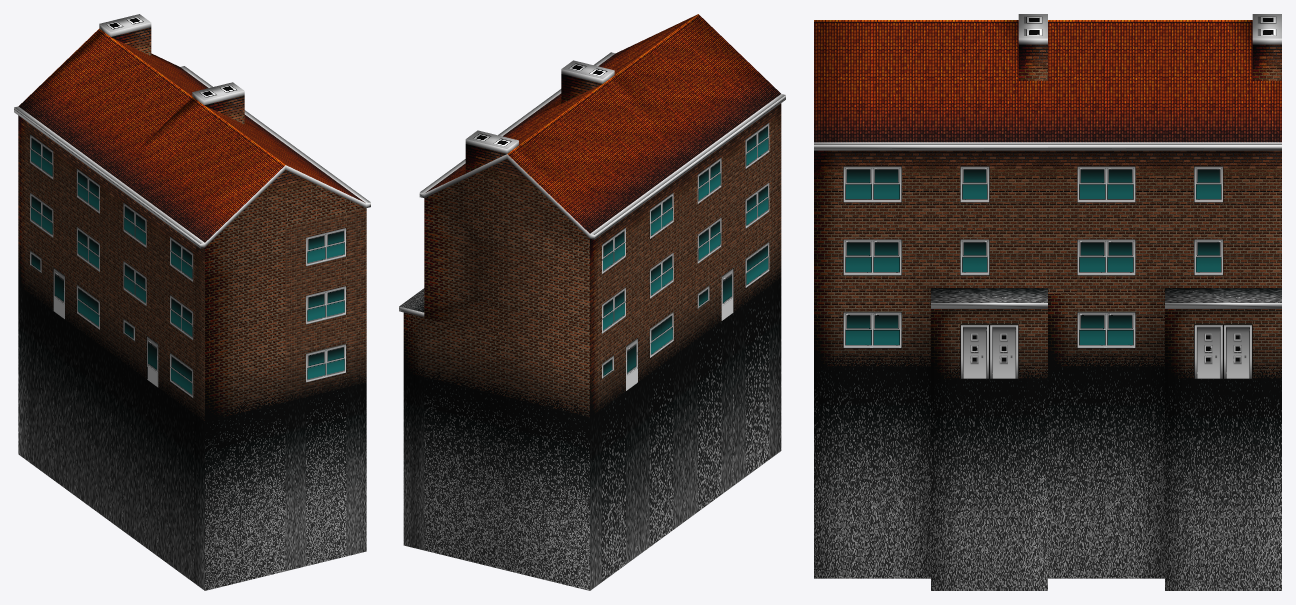
Rendered from maisonet_mod2_2a.fbx.
3 renders of one model, left to right at view 1: azimuth 30°, elevation 25°; view 2: azimuth 150°, elevation 25°; view 3: azimuth 270°, elevation 25°, orthographic. The views are drawn at different scales.
Parts seen in each view (by area): view 1: maisonet_mod2_2a; view 2: maisonet_mod2_2a; view 3: maisonet_mod2_2a.
Boxes of the visible parts, <box> form: maisonet_mod2_2a: <box>14,14,370,590</box>; maisonet_mod2_2a: <box>399,14,785,590</box>; maisonet_mod2_2a: <box>814,14,1281,590</box>.
Size of the model in its own units: 1062 by 2188 by 1800.
